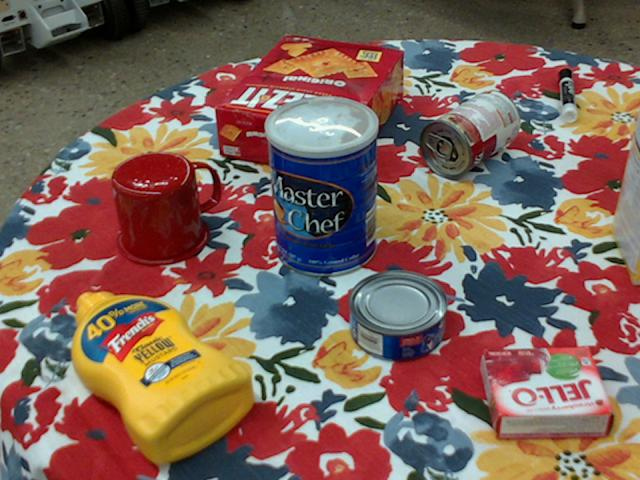cracker_box: (215, 35, 405, 177)
gelatin_box: (484, 347, 615, 438)
large_marker: (559, 68, 577, 120)
master_chef_can: (263, 95, 377, 277)
mug: (110, 151, 218, 266)
mustard_bottle: (72, 291, 255, 463)
potted_meat_can: (628, 122, 639, 165)
sugar_box: (611, 108, 639, 285)
tomato_soup_can: (420, 88, 520, 177)
tuna_fish_can: (349, 271, 448, 362)
